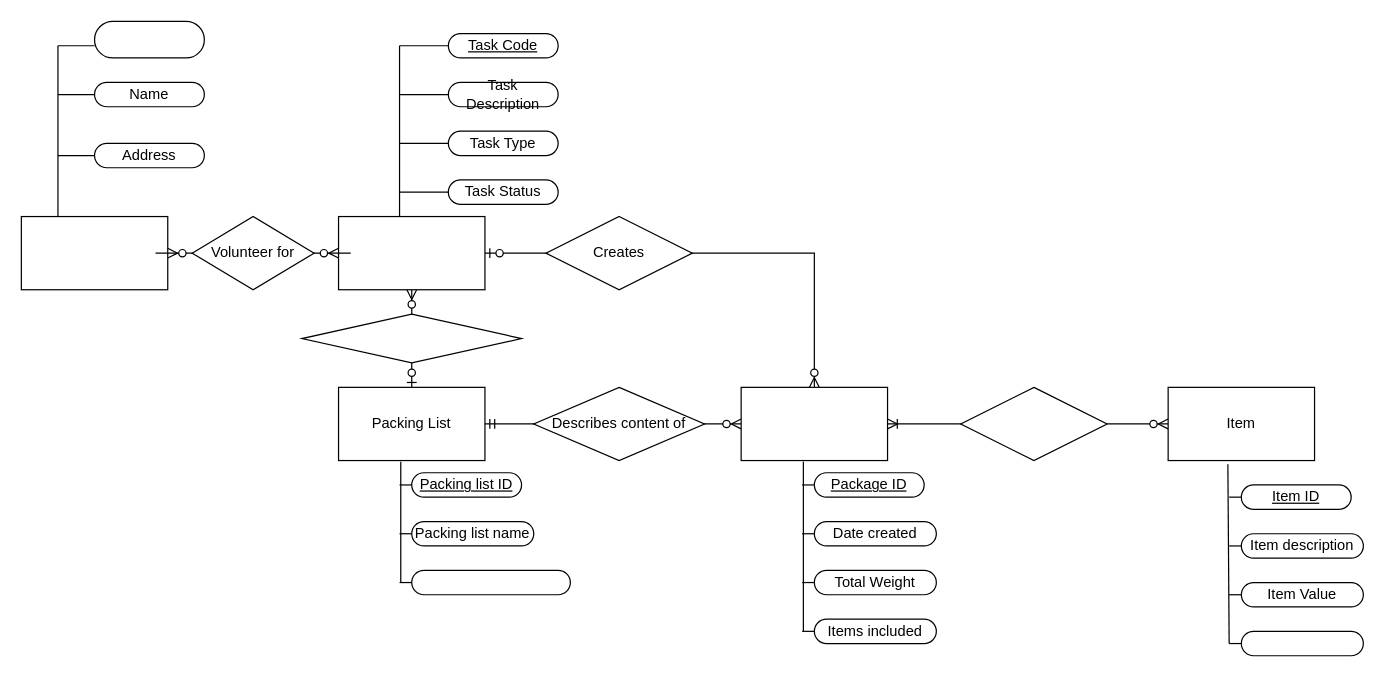
Some shapes in this 1385 by 677 pixel diagram are drawn without their labels. Each missing label, with the box of its shape:
contains: (960, 386, 1107, 461)
Item Quantity: (1240, 630, 1363, 656)
Packages: (740, 386, 888, 461)
Packing list description: (411, 569, 570, 595)
Specifies content for: (301, 313, 522, 363)
Task: (337, 215, 485, 290)
Telephone Number: (93, 20, 204, 58)
Volunteer: (20, 215, 168, 290)
